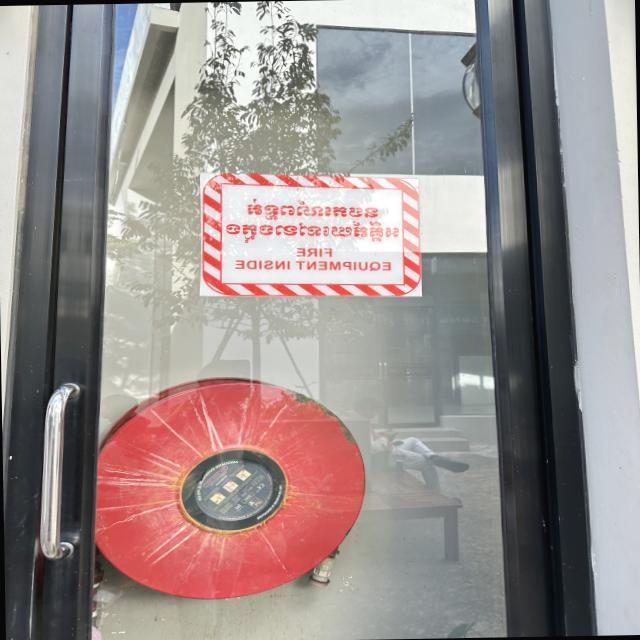Yolov11kh: (221, 219, 403, 246), (239, 198, 386, 222)
